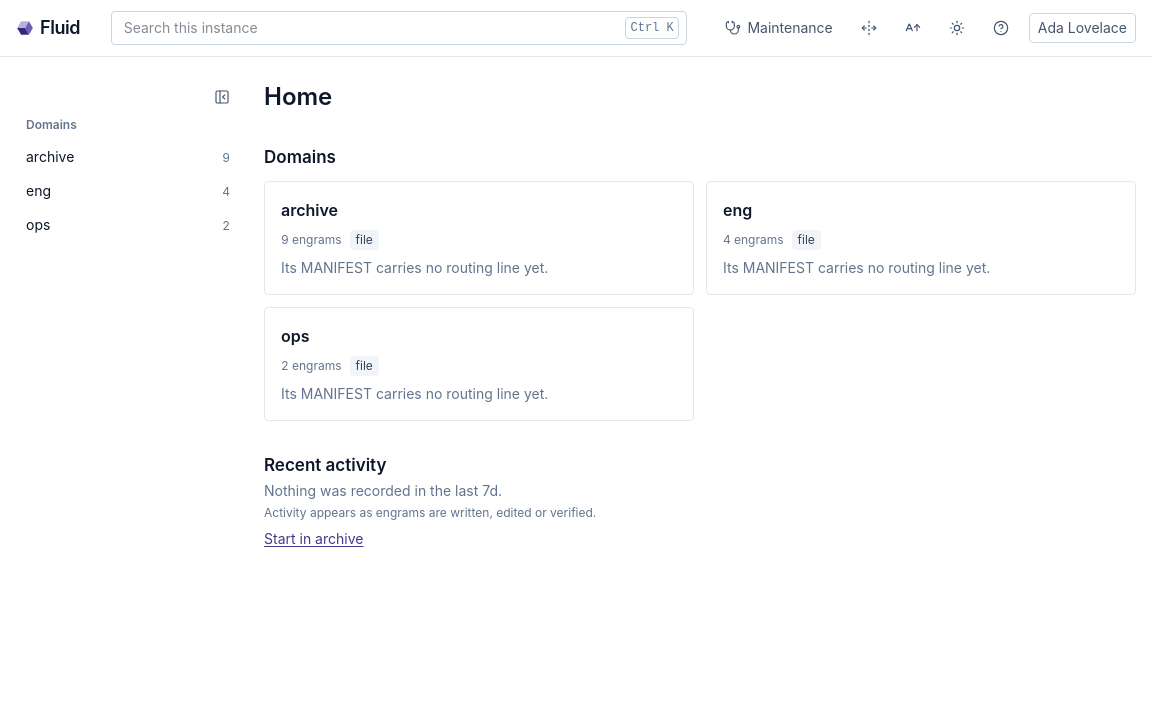
Test: the way to the maintenance screen › stands in the frame, for every role
Expected: the heading "Home" is shown, [264, 82, 332, 111]
Click the link "Maintenance": point(779, 28) [725, 19, 833, 36]
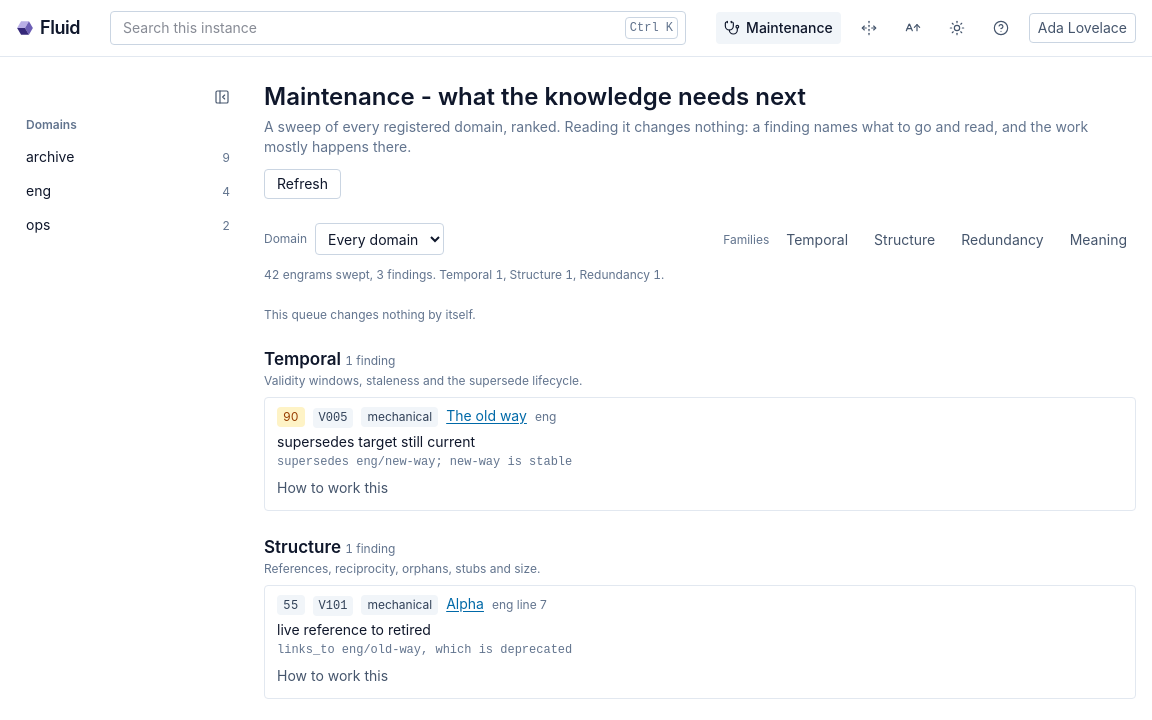
Expected: the heading "Maintenance - what the knowledge needs next" is shown, [264, 82, 806, 111]
